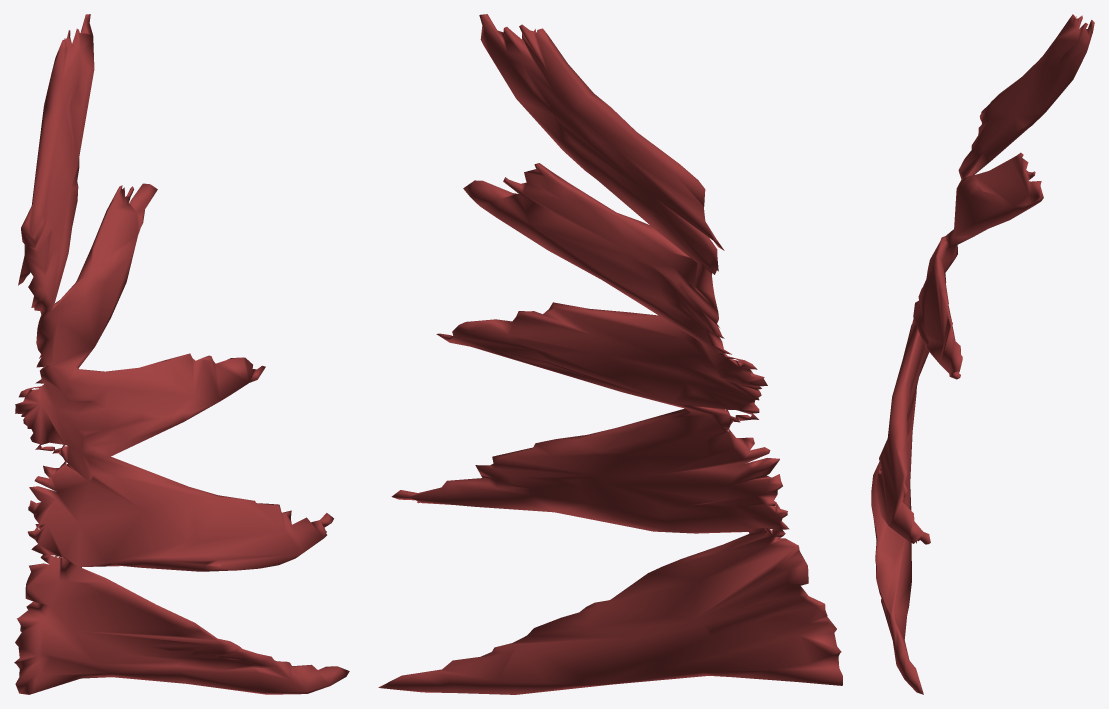
Rendered from transversus-thoracis-muscle-l.glb.
The picture shows the model from 3 angles, left to right: view 1: azimuth 30°, elevation 25°; view 2: azimuth 150°, elevation 25°; view 3: azimuth 270°, elevation 25°; orthographic projection. The views are drawn at different scales.
Visible parts, largest first — view 1: Transversus thoracis muscle.l; view 2: Transversus thoracis muscle.l; view 3: Transversus thoracis muscle.l.
Boxes of the visible parts, x1,y1,x2,y2 form: Transversus thoracis muscle.l: [14, 14, 349, 694]; Transversus thoracis muscle.l: [378, 14, 842, 694]; Transversus thoracis muscle.l: [871, 14, 1094, 694].
Size of the model in its own units: 0.0855 by 0.149 by 0.0505.
